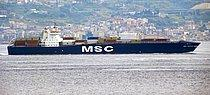Ship: (5, 19, 206, 59)
